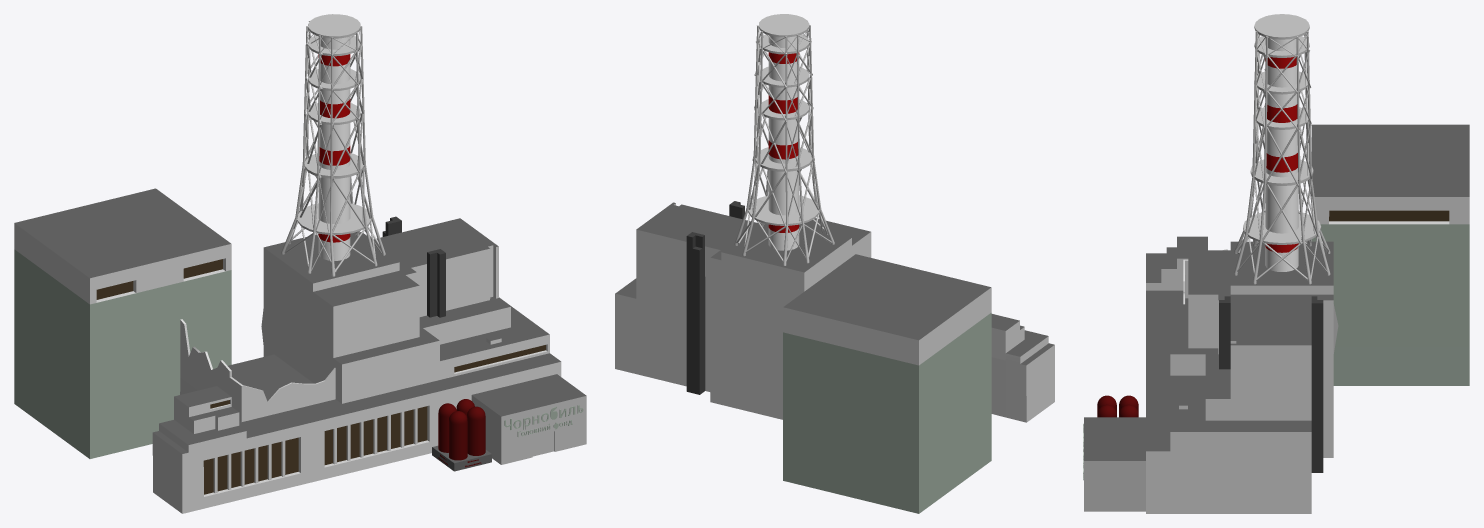
The model's file is ChernobylFinalVersion.fbx.
3 renders of one model, left to right at view 1: azimuth 30°, elevation 25°; view 2: azimuth 150°, elevation 25°; view 3: azimuth 270°, elevation 25°, orthographic. The views are drawn at different scales.
Parts seen in each view (by area): view 1: pCube30; view 2: pCube30; view 3: pCube30.
Boxes of the visible parts, x1,y1,x2,y2 form: pCube30: (14,14,586,513); pCube30: (615,14,1054,513); pCube30: (1083,14,1469,513).
Size of the model in its own units: 85.78 by 81.09 by 70.
